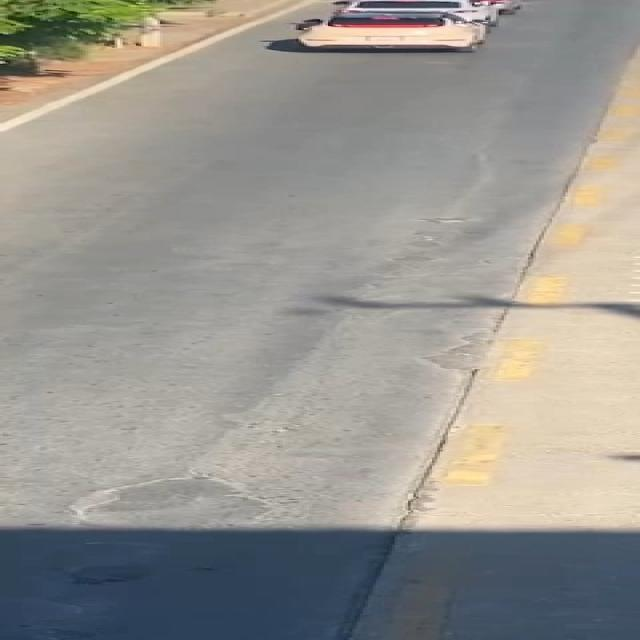car: (278, 9, 530, 54)
